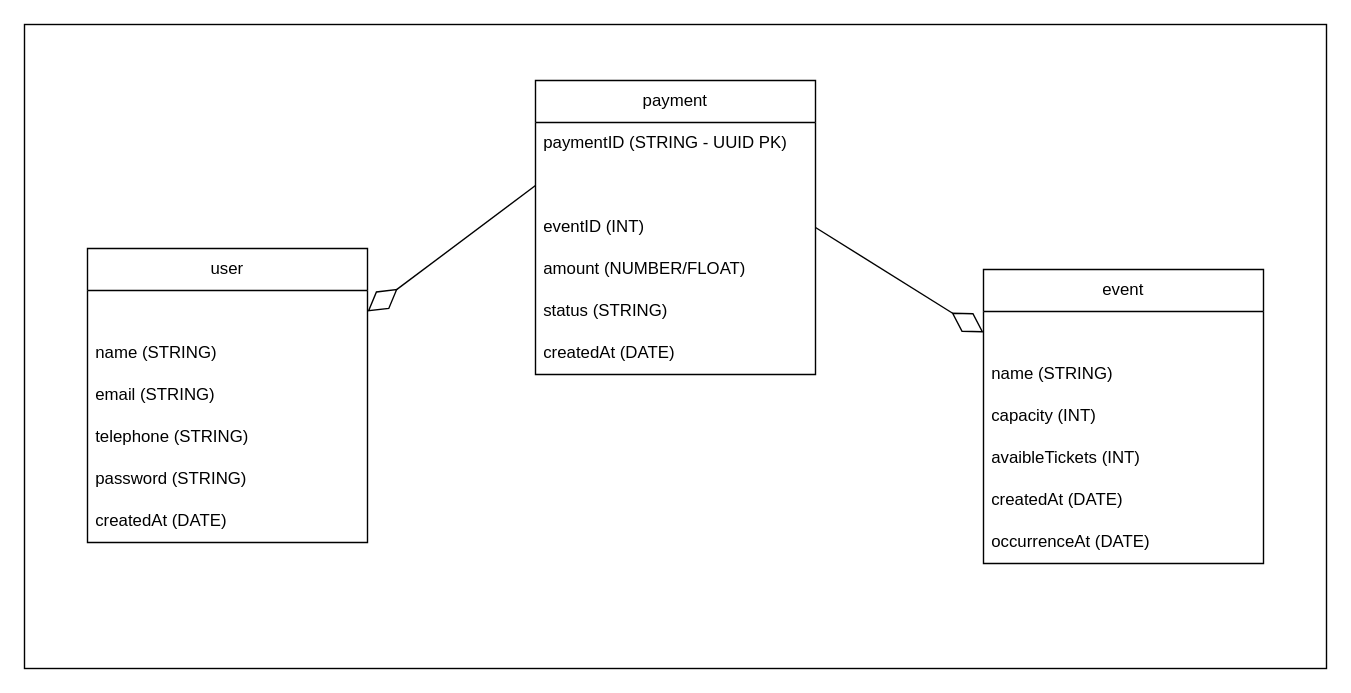
Image size: 1351x693. Some labels were removed from this diagram. Each missing label, with the centre of its shape:
"eventID (STRING-UUID PK)" goes at pixel 1123 332.
"userID (INT)" goes at pixel 675 185.
"userID (STRING-UUID PK)" goes at pixel 227 311.
